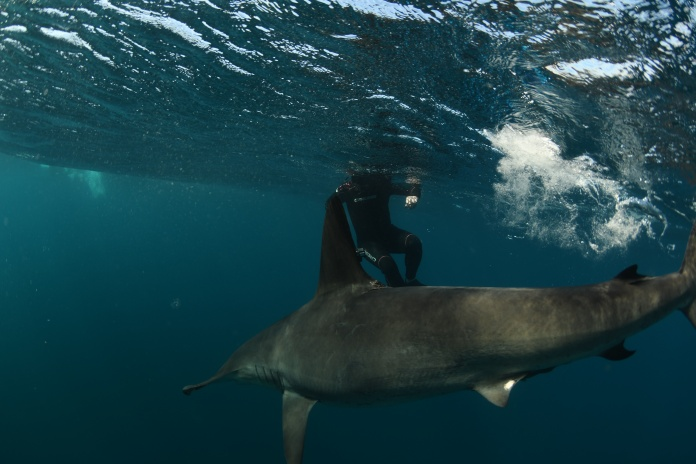Hammer: (135, 179, 681, 463)
